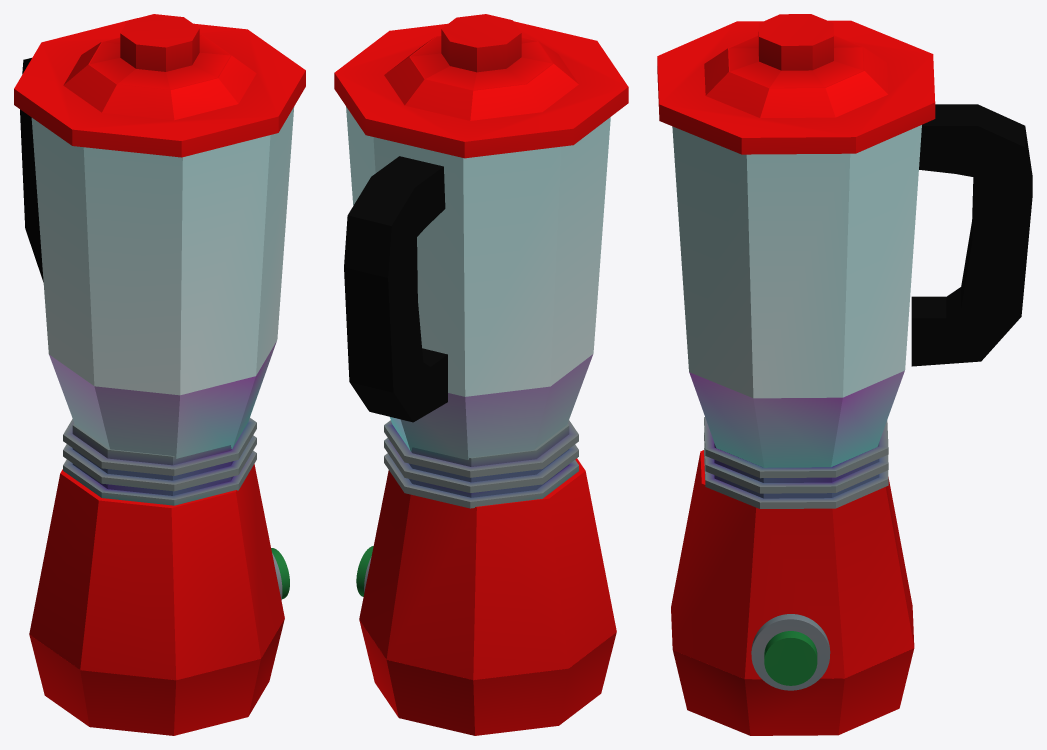
3 views of the same model, side by side, from view 1: azimuth 30°, elevation 25°; view 2: azimuth 150°, elevation 25°; view 3: azimuth 270°, elevation 25° (orthographic).
Visible parts, largest first — view 1: jug_lower, foot, lid_rim, coupling, handle; view 2: foot, jug_lower, lid_rim, handle, coupling; view 3: jug_lower, foot, lid_rim, handle, coupling, backing, knob.
Boxes of the visible parts, bbox=[...] form: jug_lower: bbox=[31, 107, 294, 458]; foot: bbox=[29, 464, 284, 735]; lid_rim: bbox=[14, 14, 305, 157]; coupling: bbox=[63, 418, 256, 505]; handle: bbox=[20, 58, 43, 282]; foot: bbox=[359, 458, 616, 735]; jug_lower: bbox=[346, 106, 610, 459]; lid_rim: bbox=[334, 14, 628, 158]; handle: bbox=[344, 156, 447, 422]; coupling: bbox=[384, 420, 578, 508]; jug_lower: bbox=[672, 125, 921, 467]; foot: bbox=[671, 450, 914, 735]; lid_rim: bbox=[657, 14, 935, 154]; handle: bbox=[911, 104, 1032, 366]; coupling: bbox=[704, 417, 888, 508]; backing: bbox=[751, 614, 830, 690]; knob: bbox=[764, 631, 817, 685].
Bounding box in the file's own units: 0.1517 × 0.3995 × 0.2048.
